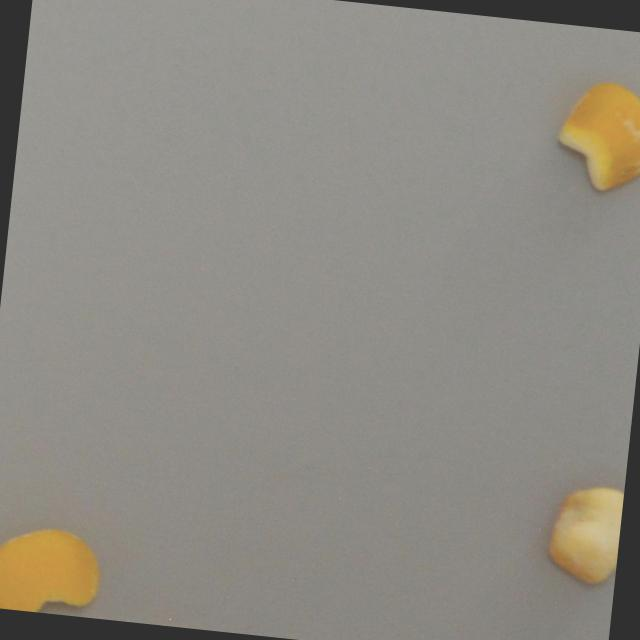dañado: (549, 73, 640, 201)
no_desgerminado: (540, 473, 625, 596)
pelicula: (0, 518, 106, 618)
